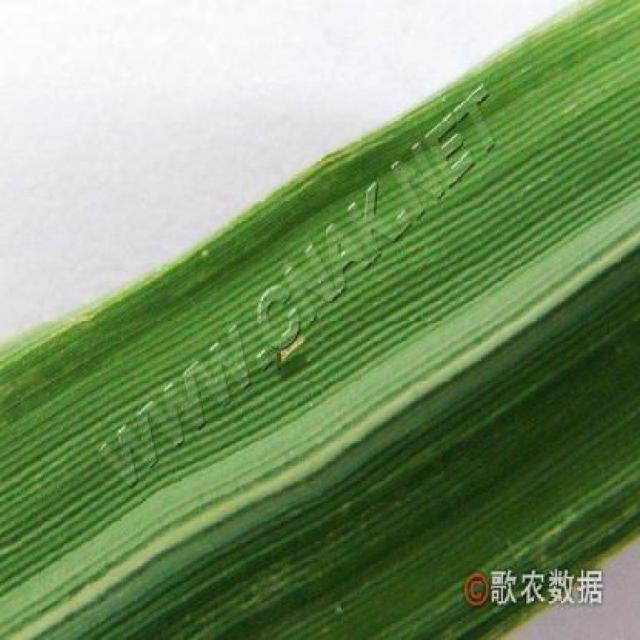leaf-folder: (278, 326, 312, 368)
